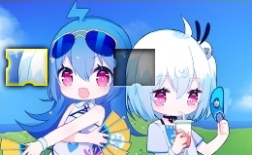gap: (113, 49, 155, 86)
